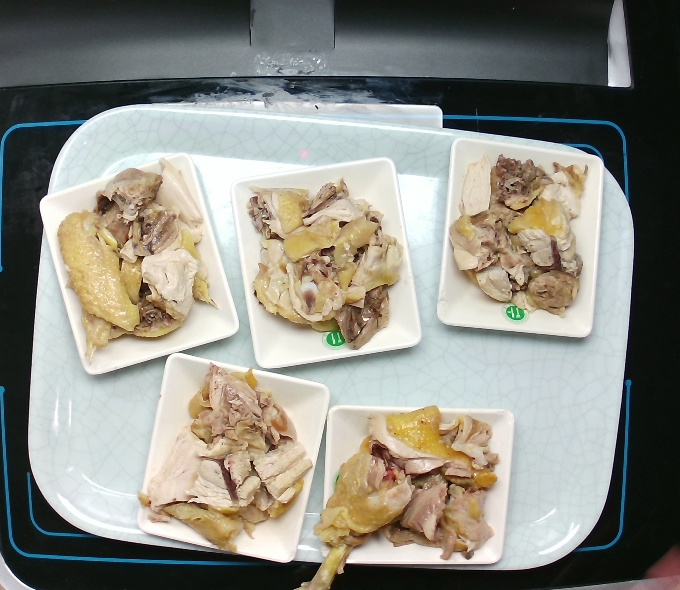wcq-BaiQieJi: (293, 404, 499, 590), (45, 157, 220, 363), (140, 362, 313, 553), (229, 178, 400, 347), (447, 147, 598, 316)
